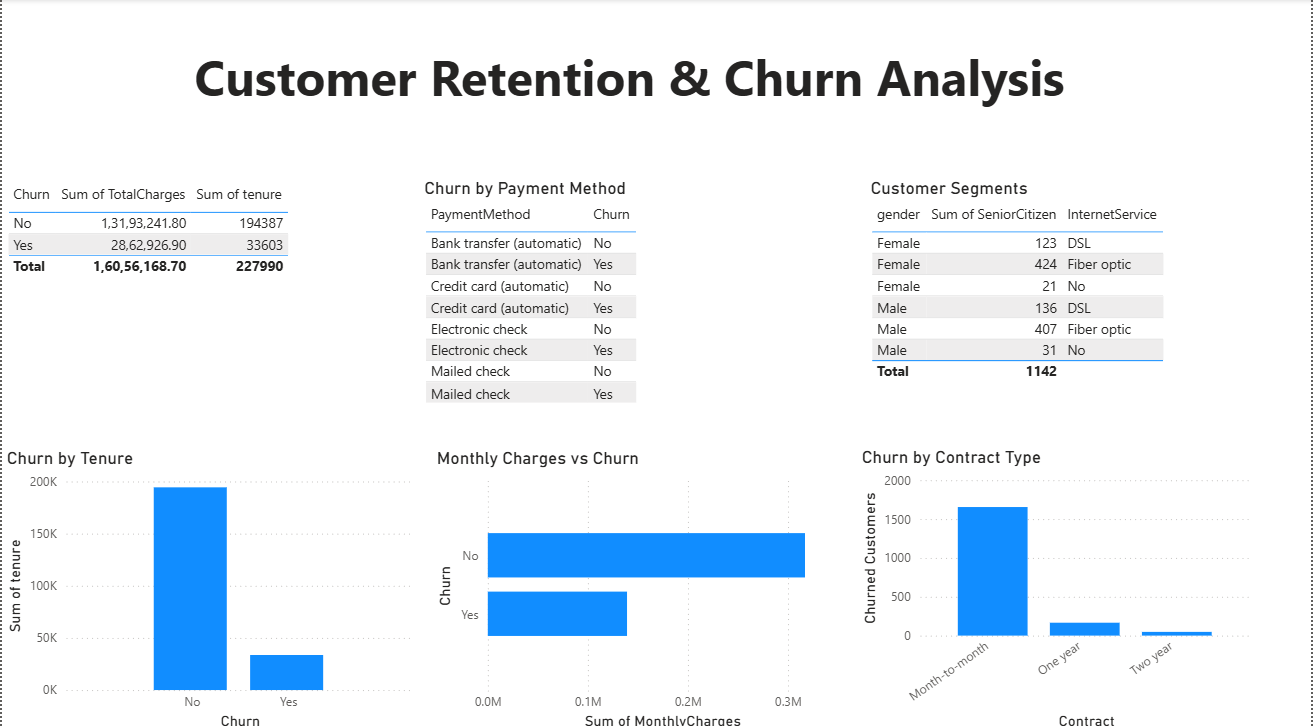

This screenshot's page, from the dashboard's own definition file:
{"tool":"powerbi","page":{"name":"Page 1","canvas":[1280,720],"ordinal":0},"visuals":[{"type":"tableEx","fields":{"Values":["WA_Fn-UseC_-Telco-Customer-Churn (2).Churn","Sum(WA_Fn-UseC_-Telco-Customer-Churn (2).TotalCharges)","Sum(WA_Fn-UseC_-Telco-Customer-Churn (2).tenure)"]},"box":[0,174.4,408.2,264.6],"z":0},{"type":"clusteredColumnChart","title":"Churn by Contract Type","fields":{"Category":["WA_Fn-UseC_-Telco-Customer-Churn (2).Contract"],"Y":["WA_Fn-UseC_-Telco-Customer-Churn (2).Churned Customers"]},"box":[836,438,392,282],"z":3},{"type":"clusteredColumnChart","title":"Churn by Tenure","fields":{"Y":["Sum(WA_Fn-UseC_-Telco-Customer-Churn (2).tenure)"],"Category":["WA_Fn-UseC_-Telco-Customer-Churn (2).Churn"]},"box":[0,439,408.2,281],"z":4},{"type":"tableEx","title":"Churn by Payment Method","fields":{"Values":["WA_Fn-UseC_-Telco-Customer-Churn (2).PaymentMethod","WA_Fn-UseC_-Telco-Customer-Churn (2).Churn"]},"box":[408.2,174.4,428.7,240],"z":5},{"type":"barChart","title":"Monthly Charges vs Churn","fields":{"Y":["Sum(WA_Fn-UseC_-Telco-Customer-Churn (2).MonthlyCharges)"],"Category":["WA_Fn-UseC_-Telco-Customer-Churn (2).Churn"]},"box":[420.5,439,416.4,281],"z":6},{"type":"tableEx","title":"Customer Segments","fields":{"Values":["WA_Fn-UseC_-Telco-Customer-Churn (2).gender","Sum(WA_Fn-UseC_-Telco-Customer-Churn (2).SeniorCitizen)","WA_Fn-UseC_-Telco-Customer-Churn (2).InternetService"]},"box":[845.1,174.4,428.7,240],"z":7},{"type":"textbox","box":[0,38,1228,106],"z":8}]}

Visuals, with their boxes in screenshot pixels (x1, y1, x2, y2), scaled from the page's 1280x720 canvas onto the 1313x726 screenshot:
tableEx - WA_Fn-UseC_-Telco-Customer-Churn (2).Churn x Sum(WA_Fn-UseC_-Telco-Customer-Churn (2).TotalCharges): 0 176 419 443
"Churn by Contract Type" clusteredColumnChart: 858 442 1260 725
"Churn by Tenure" clusteredColumnChart: 0 443 419 725
"Churn by Payment Method" tableEx: 419 176 858 418
"Monthly Charges vs Churn" barChart: 431 443 858 725
"Customer Segments" tableEx: 867 176 1307 418
textbox: 0 38 1260 145
